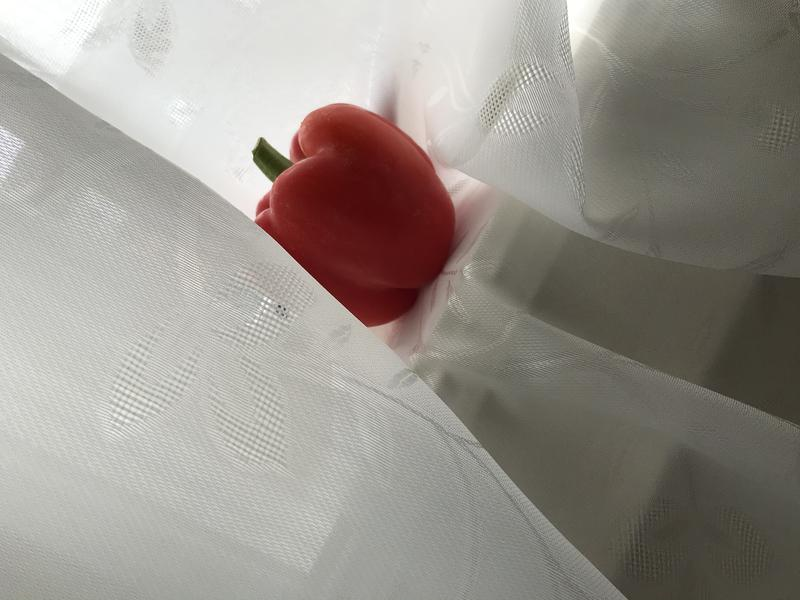red_pepper: (238, 95, 469, 335)
